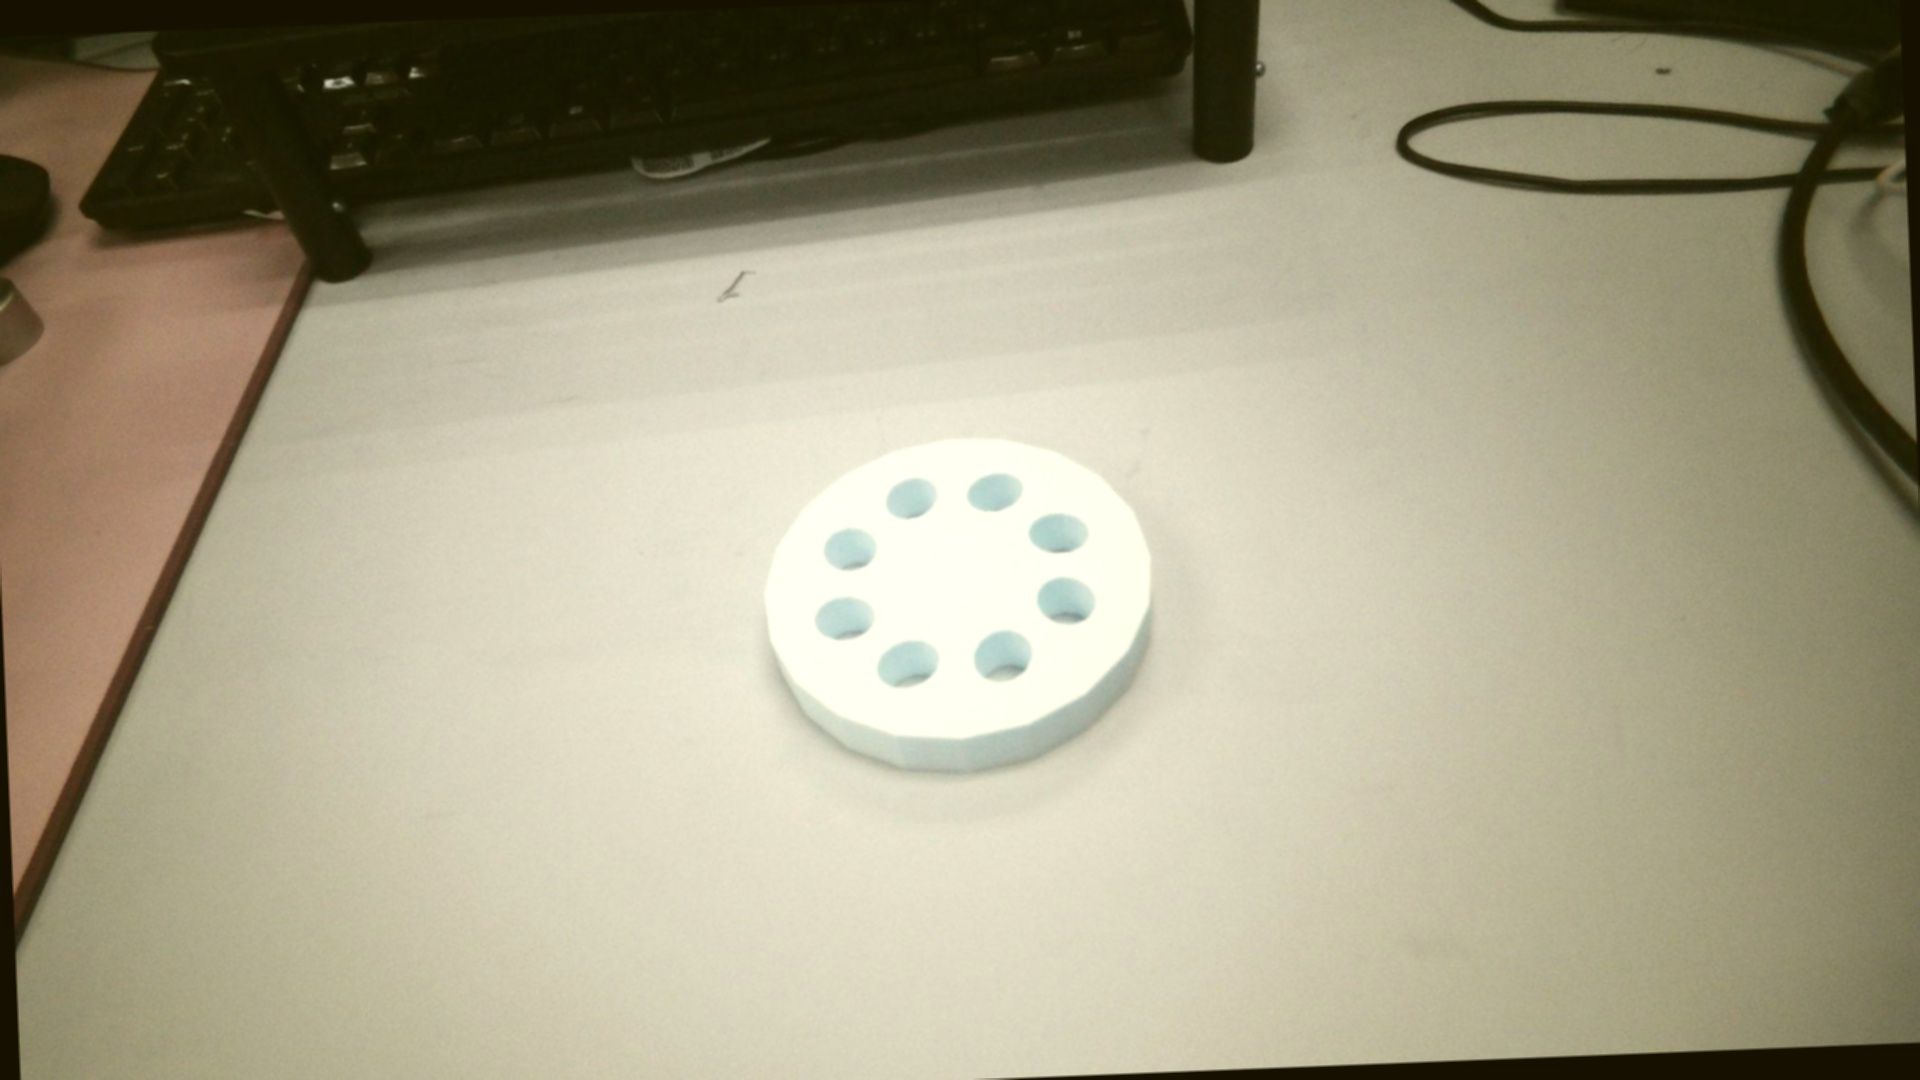hole: (873, 636, 949, 695), (814, 584, 878, 644), (1029, 501, 1092, 558), (973, 625, 1033, 684), (967, 465, 1026, 514), (1042, 576, 1098, 624), (827, 521, 882, 564), (886, 476, 940, 518)
obj: (760, 415, 1162, 785)
